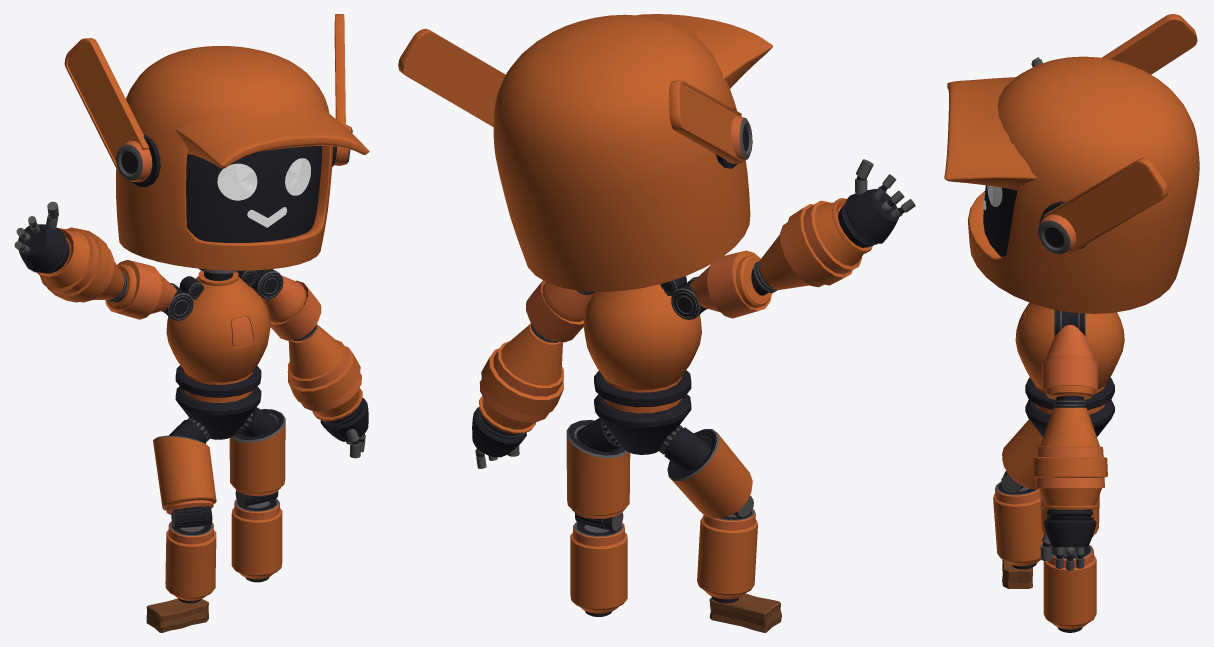
The model's file is Robots (Love, Death and Robots).fbx.
3 views of the same model, side by side, from view 1: azimuth 30°, elevation 25°; view 2: azimuth 150°, elevation 25°; view 3: azimuth 270°, elevation 25° (orthographic). The views are drawn at different scales.
Parts seen in each view (by area): view 1: Cylinder, Cylinder.002, Cube.001, Cylinder.037, Cube, Cylinder.008, Cylinder.023, Cylinder.053, Cylinder.052, Cylinder.024, Cylinder.007, Cylinder.036 (+12 smaller); view 2: Cylinder, Cylinder.002, Cylinder.037, Cylinder.008, Cube.003, Cylinder.053, Cylinder.024, Cylinder.052, Cylinder.023, Cube, Cylinder.007, Cube.001 (+10 smaller); view 3: Cylinder, Cube.001, Cylinder.037, Cube.003, Cylinder.002, Cylinder.053, Cylinder.024, Cylinder.036, Cube, Cylinder.039, Cylinder.023, Cylinder.061 (+5 smaller).
Part boxes in pixels (x1,y1,x2,y2): Cylinder: [116, 46, 332, 273]; Cylinder.002: [166, 270, 270, 402]; Cube.001: [176, 108, 369, 168]; Cylinder.037: [287, 324, 362, 421]; Cube: [64, 38, 149, 173]; Cylinder.008: [36, 227, 124, 302]; Cylinder.023: [153, 435, 216, 514]; Cylinder.053: [231, 498, 282, 579]; Cylinder.052: [229, 409, 285, 496]; Cylinder.024: [165, 521, 216, 600]; Cylinder.007: [105, 260, 176, 319]; Cylinder.036: [261, 275, 321, 340]; Cylinder: [493, 14, 750, 291]; Cylinder.002: [583, 284, 701, 413]; Cylinder.037: [479, 323, 563, 433]; Cylinder.008: [759, 198, 872, 289]; Cube.003: [398, 28, 505, 126]; Cylinder.053: [570, 521, 627, 613]; Cylinder.024: [697, 509, 757, 599]; Cylinder.052: [566, 420, 630, 518]; Cylinder.023: [667, 429, 752, 518]; Cube: [669, 80, 742, 163]; Cylinder.007: [690, 250, 772, 318]; Cube.001: [637, 14, 772, 88]; Cylinder: [967, 56, 1199, 313]; Cube.001: [944, 77, 1037, 190]; Cylinder.037: [1032, 407, 1107, 509]; Cube.003: [1044, 157, 1168, 254]; Cylinder.002: [1015, 302, 1124, 414]; Cylinder.053: [1043, 545, 1096, 629]; Cylinder.024: [993, 481, 1044, 566]; Cylinder.036: [1041, 324, 1098, 399]; Cube: [1101, 14, 1197, 74]; Cylinder.039: [1043, 509, 1096, 547]; Cylinder.023: [1002, 419, 1042, 489]; Cylinder.061: [1038, 214, 1076, 254].
Size of the model in its own units: 439 by 571 by 238.
